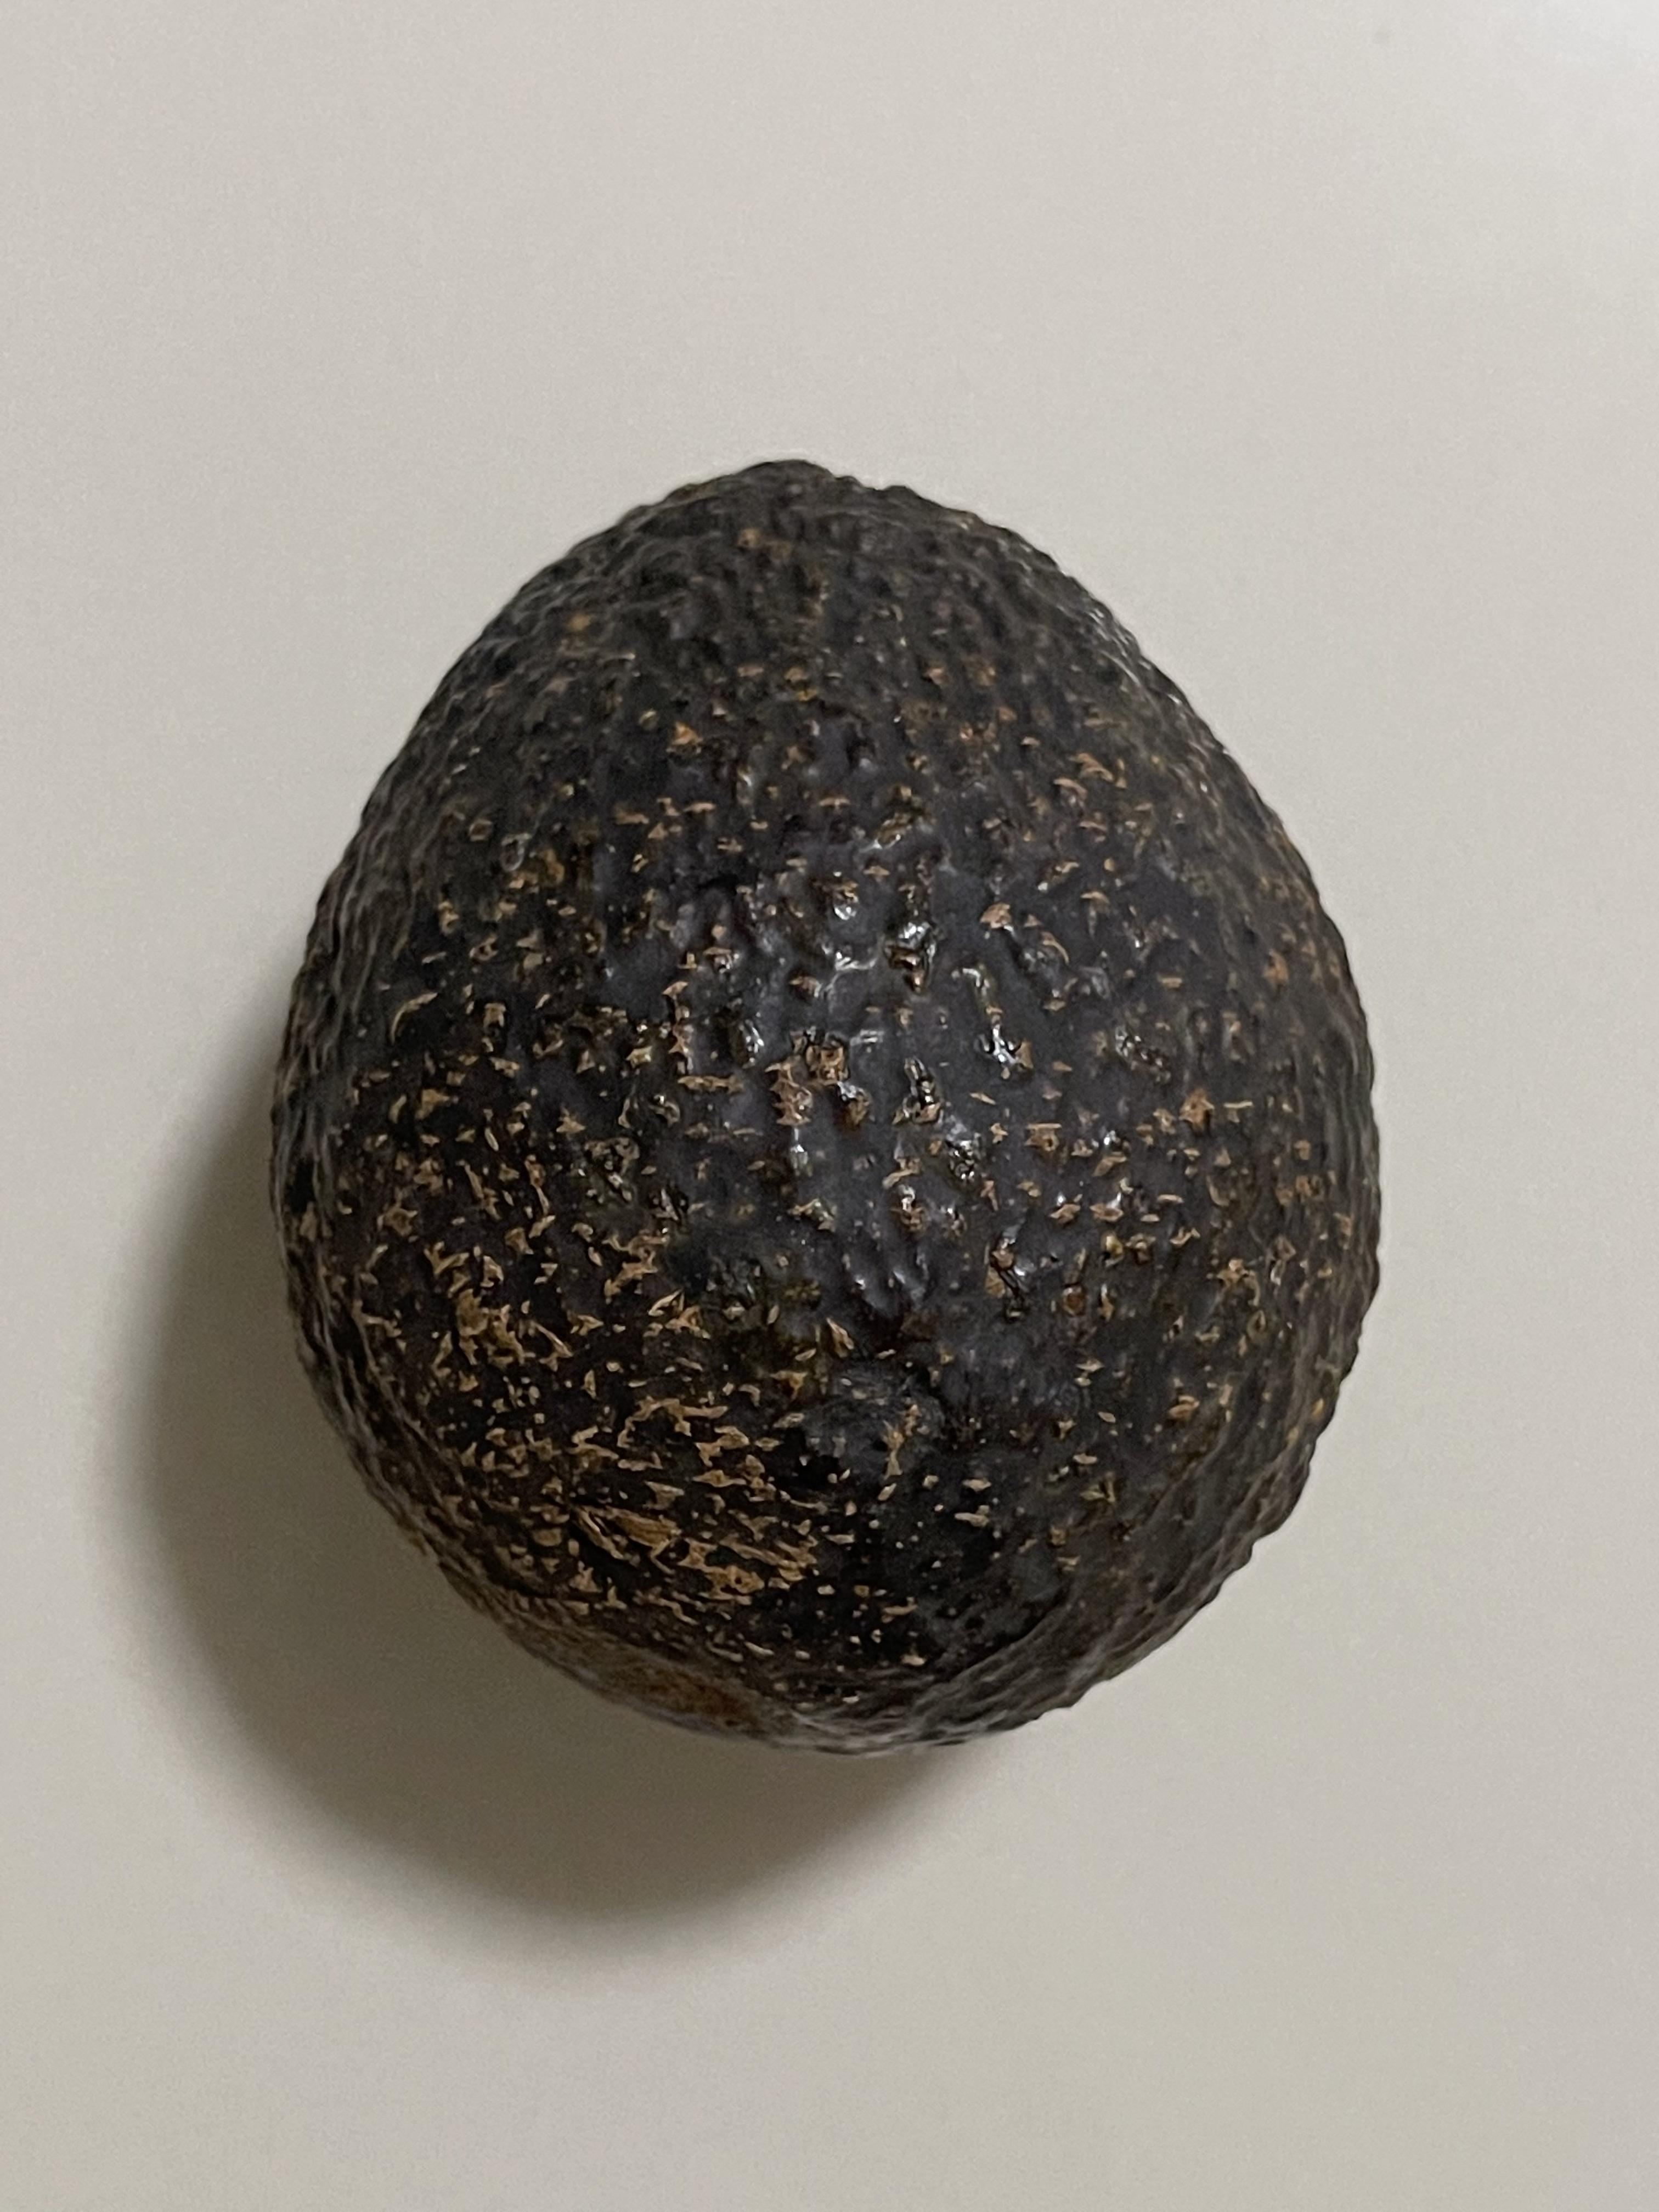Level3: (242, 428, 1408, 1785)
